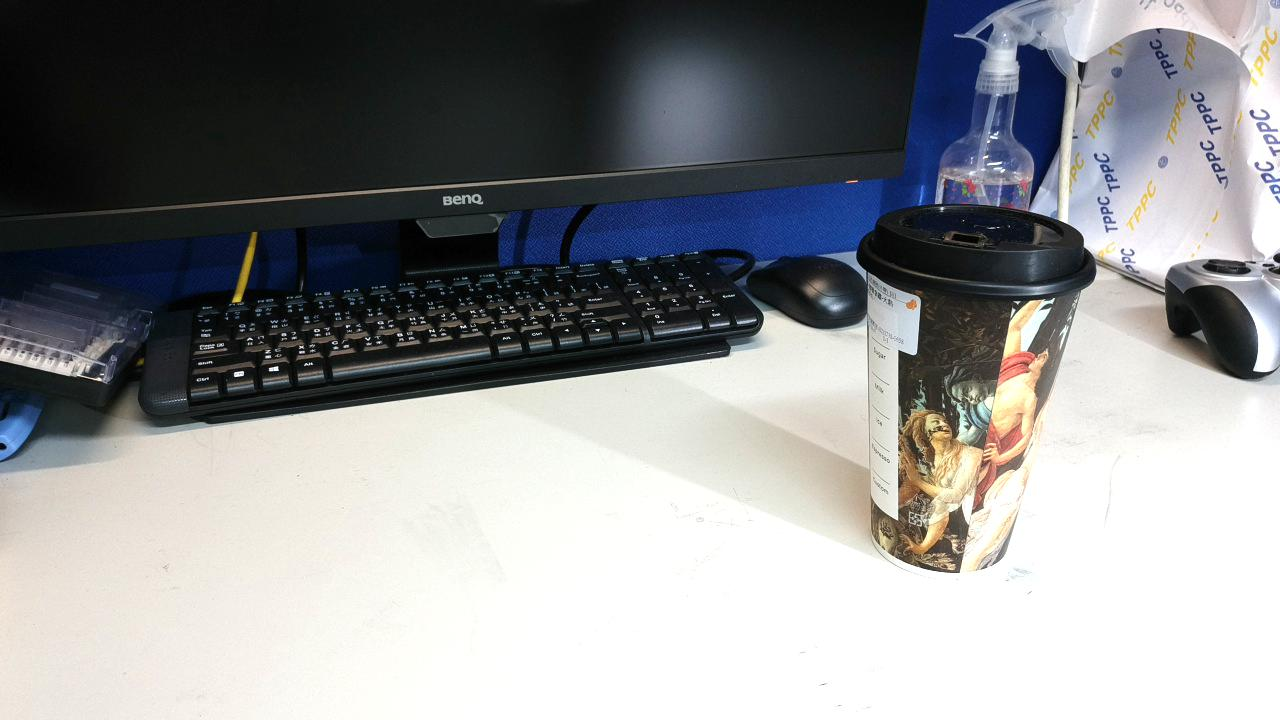long: (676, 536, 922, 696)
